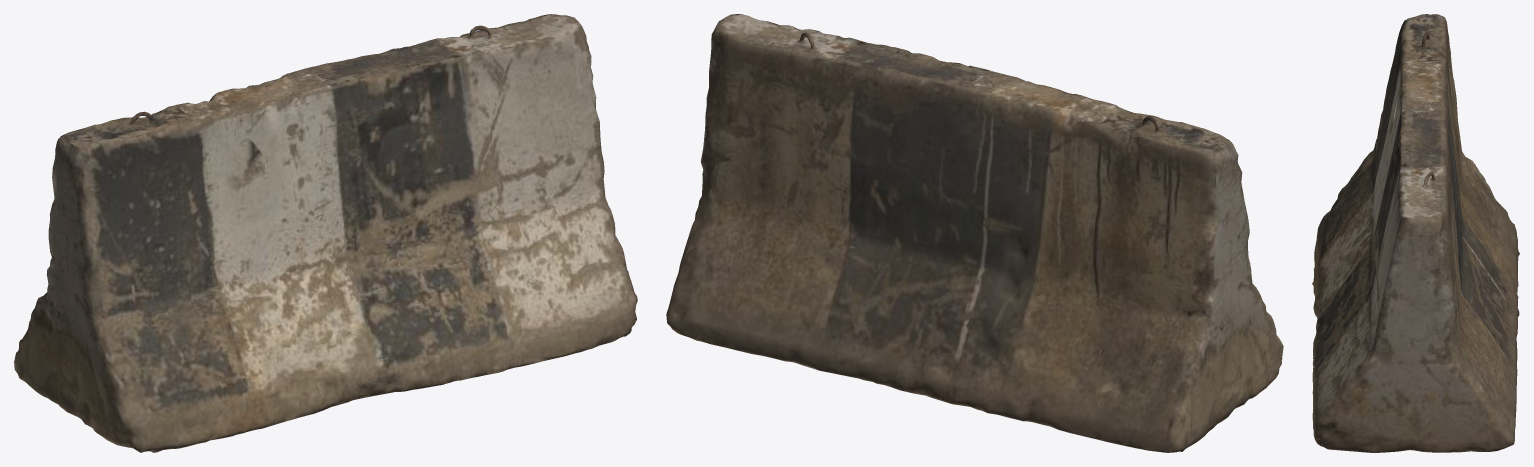
File: concrete-barrier-lod.glb
3 renders of one model, left to right at view 1: azimuth 30°, elevation 25°; view 2: azimuth 150°, elevation 25°; view 3: azimuth 270°, elevation 25°, orthographic. The views are drawn at different scales.
Visible parts, largest first — view 1: concrete_road_barrier; view 2: concrete_road_barrier; view 3: concrete_road_barrier.
Part boxes in pixels (x1,y1,x2,y2): concrete_road_barrier: (14,14,637,452); concrete_road_barrier: (666,14,1283,452); concrete_road_barrier: (1312,14,1519,452).
Bounding box in the file's own units: 1.55 × 0.8309 × 0.6387.
Materials: 1 (1 with a texture image).
